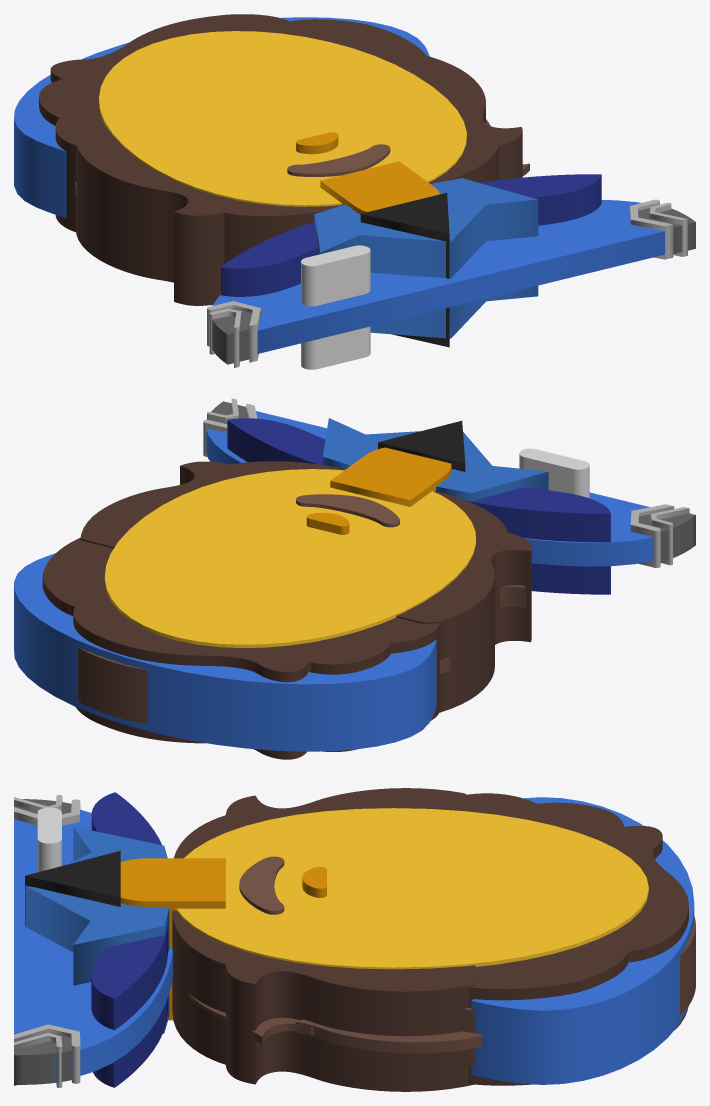
Rendered from emoji_u1f46e.glb.
3 renders of one model, top to bottom at view 1: azimuth 30°, elevation 25°; view 2: azimuth 150°, elevation 25°; view 3: azimuth 270°, elevation 25°, orthographic. The views are drawn at different scales.
Parts seen in each view (by area): view 1: emoji_u1f46e; view 2: emoji_u1f46e; view 3: emoji_u1f46e.
Part boxes in pixels (x1,y1,x2,y2): emoji_u1f46e: [14, 14, 695, 369]; emoji_u1f46e: [14, 398, 695, 759]; emoji_u1f46e: [14, 788, 695, 1091].
Size of the model in its own units: 0.0294 by 0.0068 by 0.0333.
